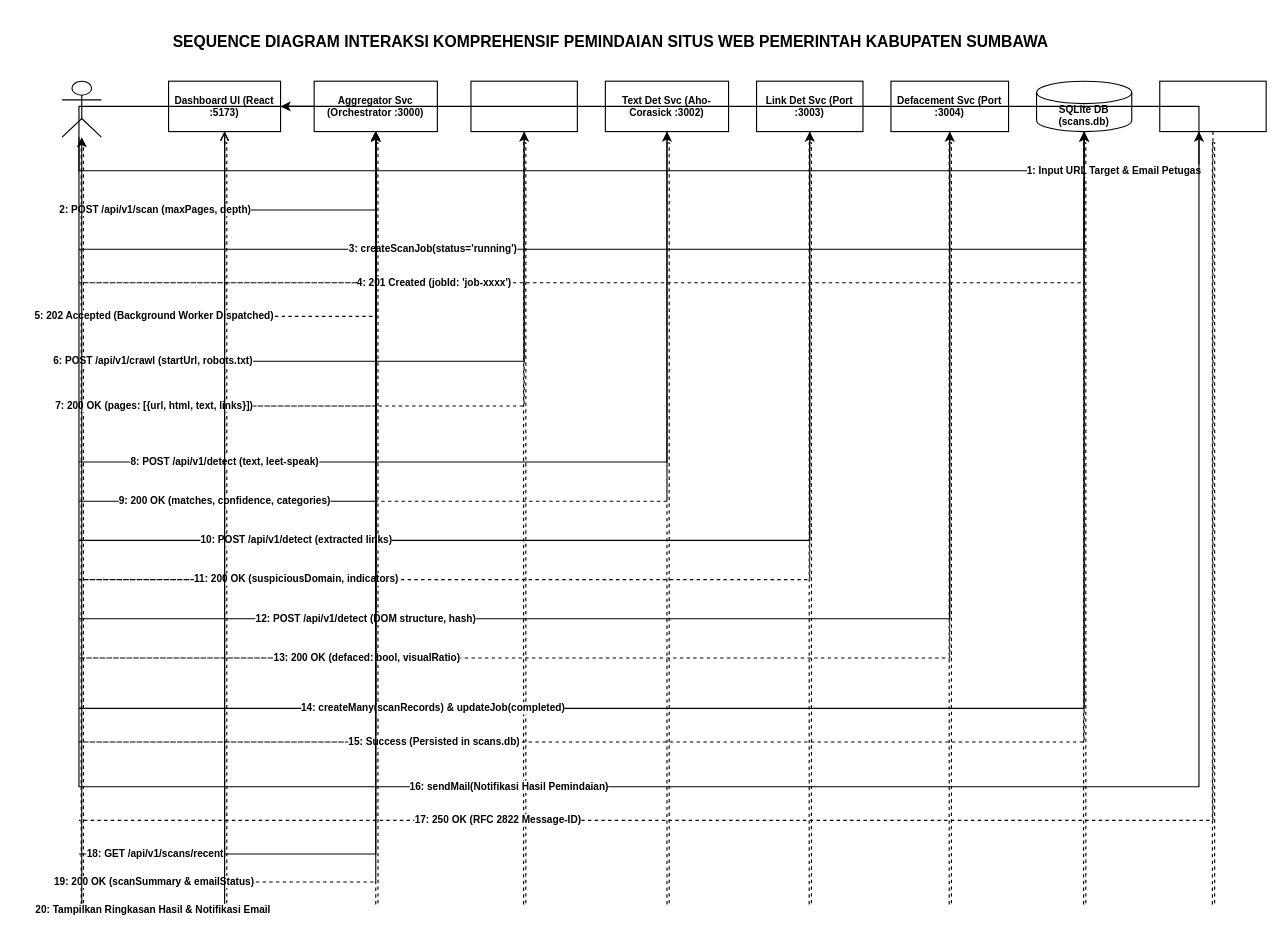
The diagram is 1287 pixels wide and 939 high, and some of its shapes have lost their labels. Each missing label, with the centre of its shape:
"Crawler Svc (Port :3001)" belongs at point 523,106.
"Petugas CSIRT (Admin)" belongs at point 81,108.
"SMTP Server (Gmail :587)" belongs at point 1212,106.
